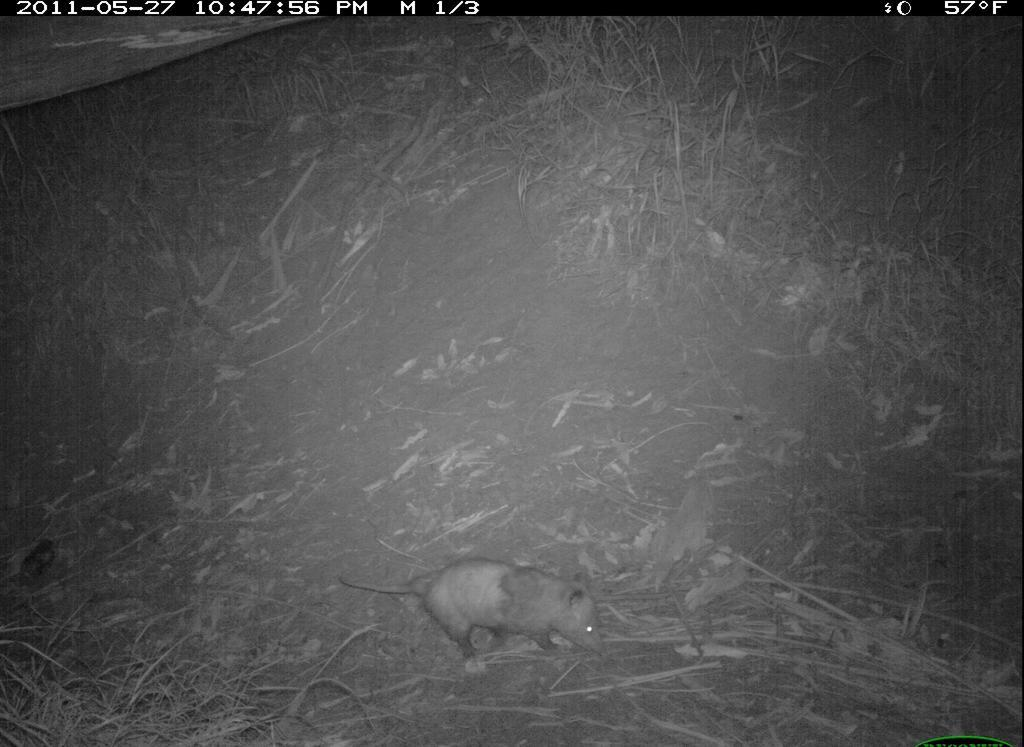opossum: (332, 557, 612, 679)
